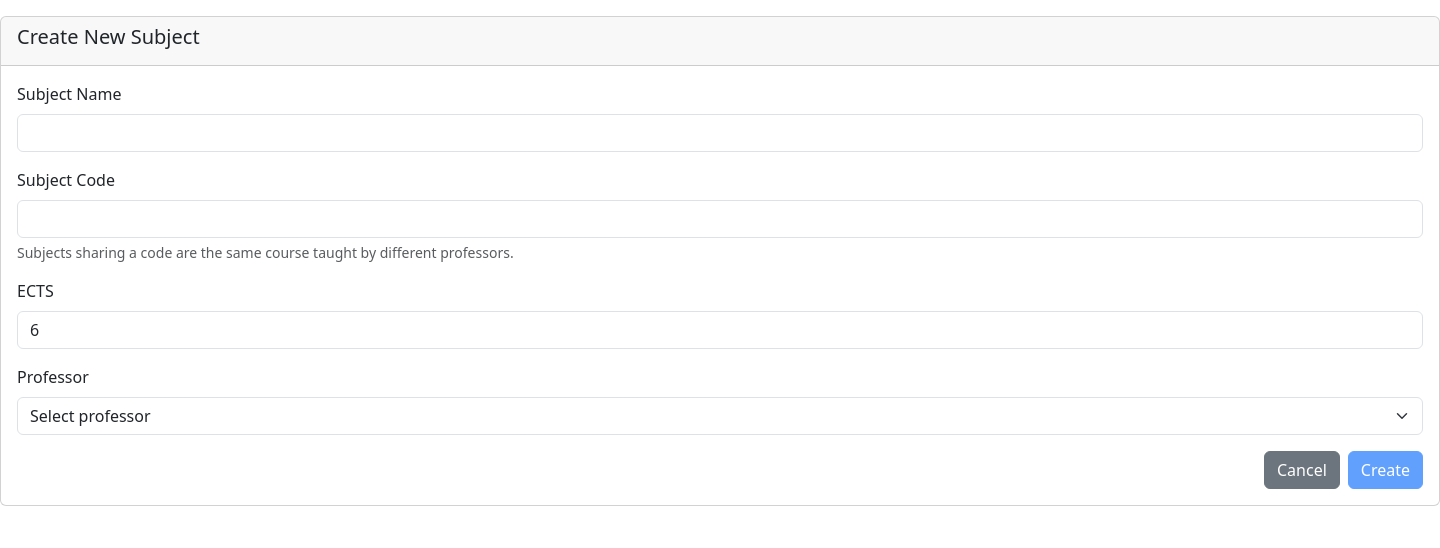
Scenario: SubjectCreateForm — SubjectCode field (UI §8.4) › shows a required error when field is blurred empty
Click the field labelled "Subject Code" at (720, 219), box 17,200 -> 1423,238
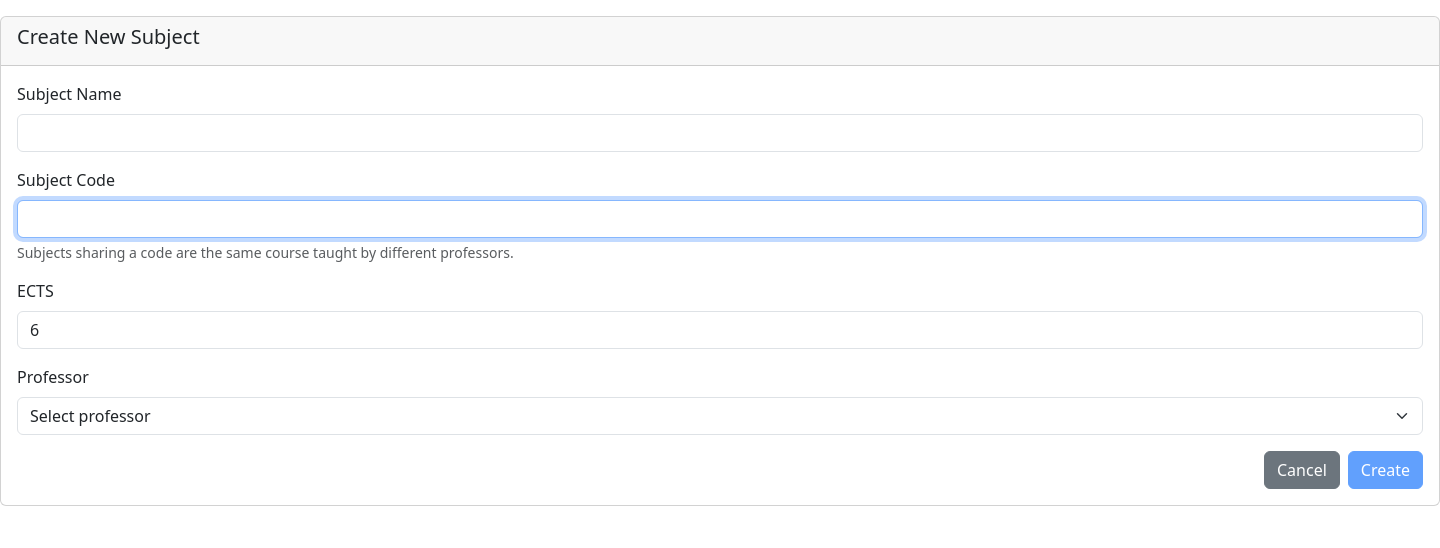
Press Tab
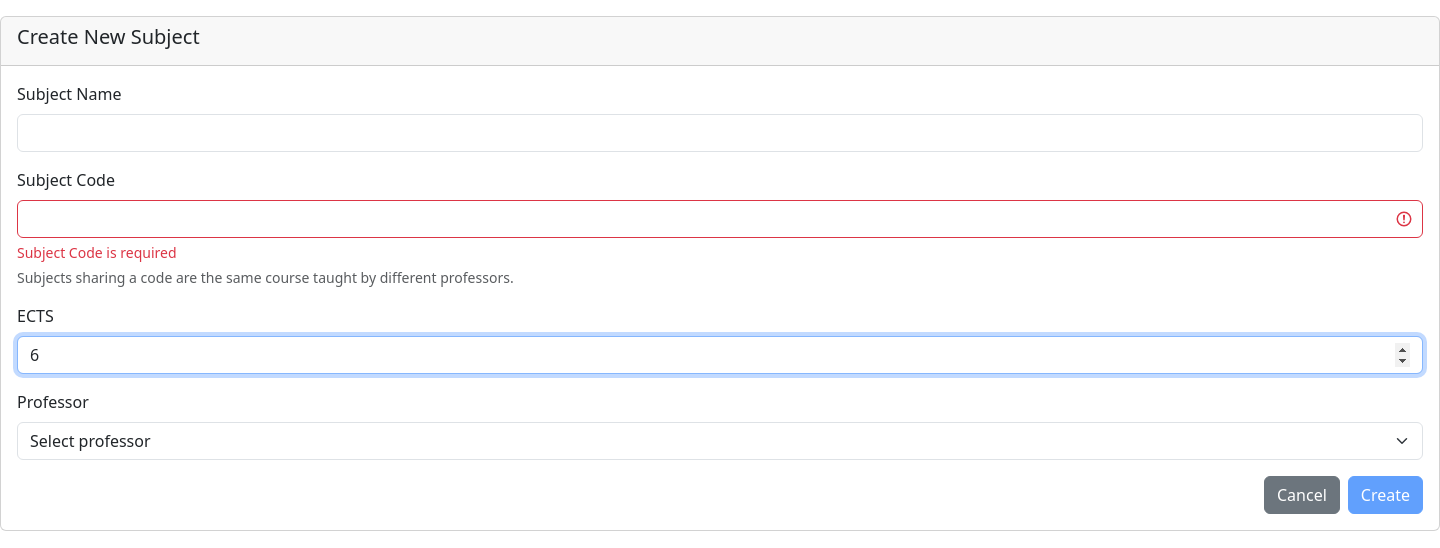
Expected: the text "Subject Code is required" is shown, 17,243 -> 177,262
